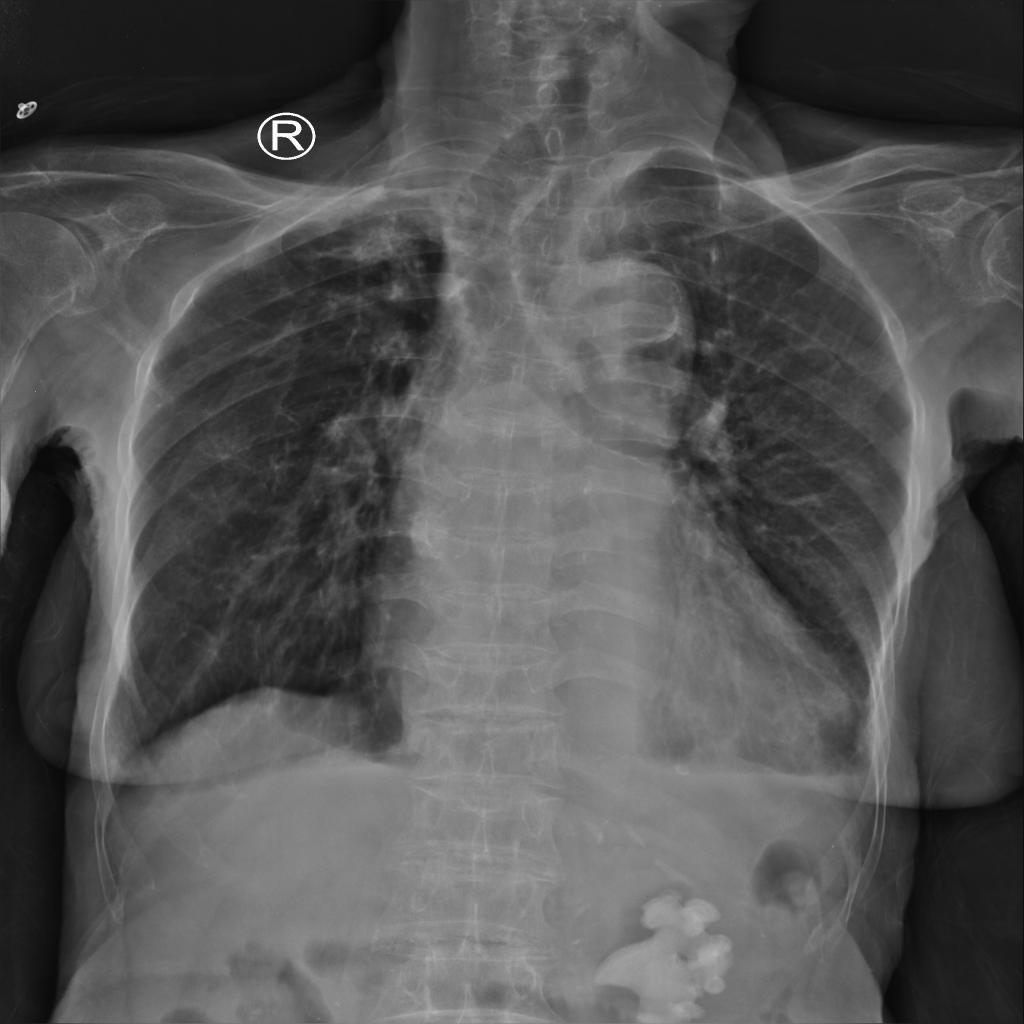Nodule: (813, 682, 851, 719)
